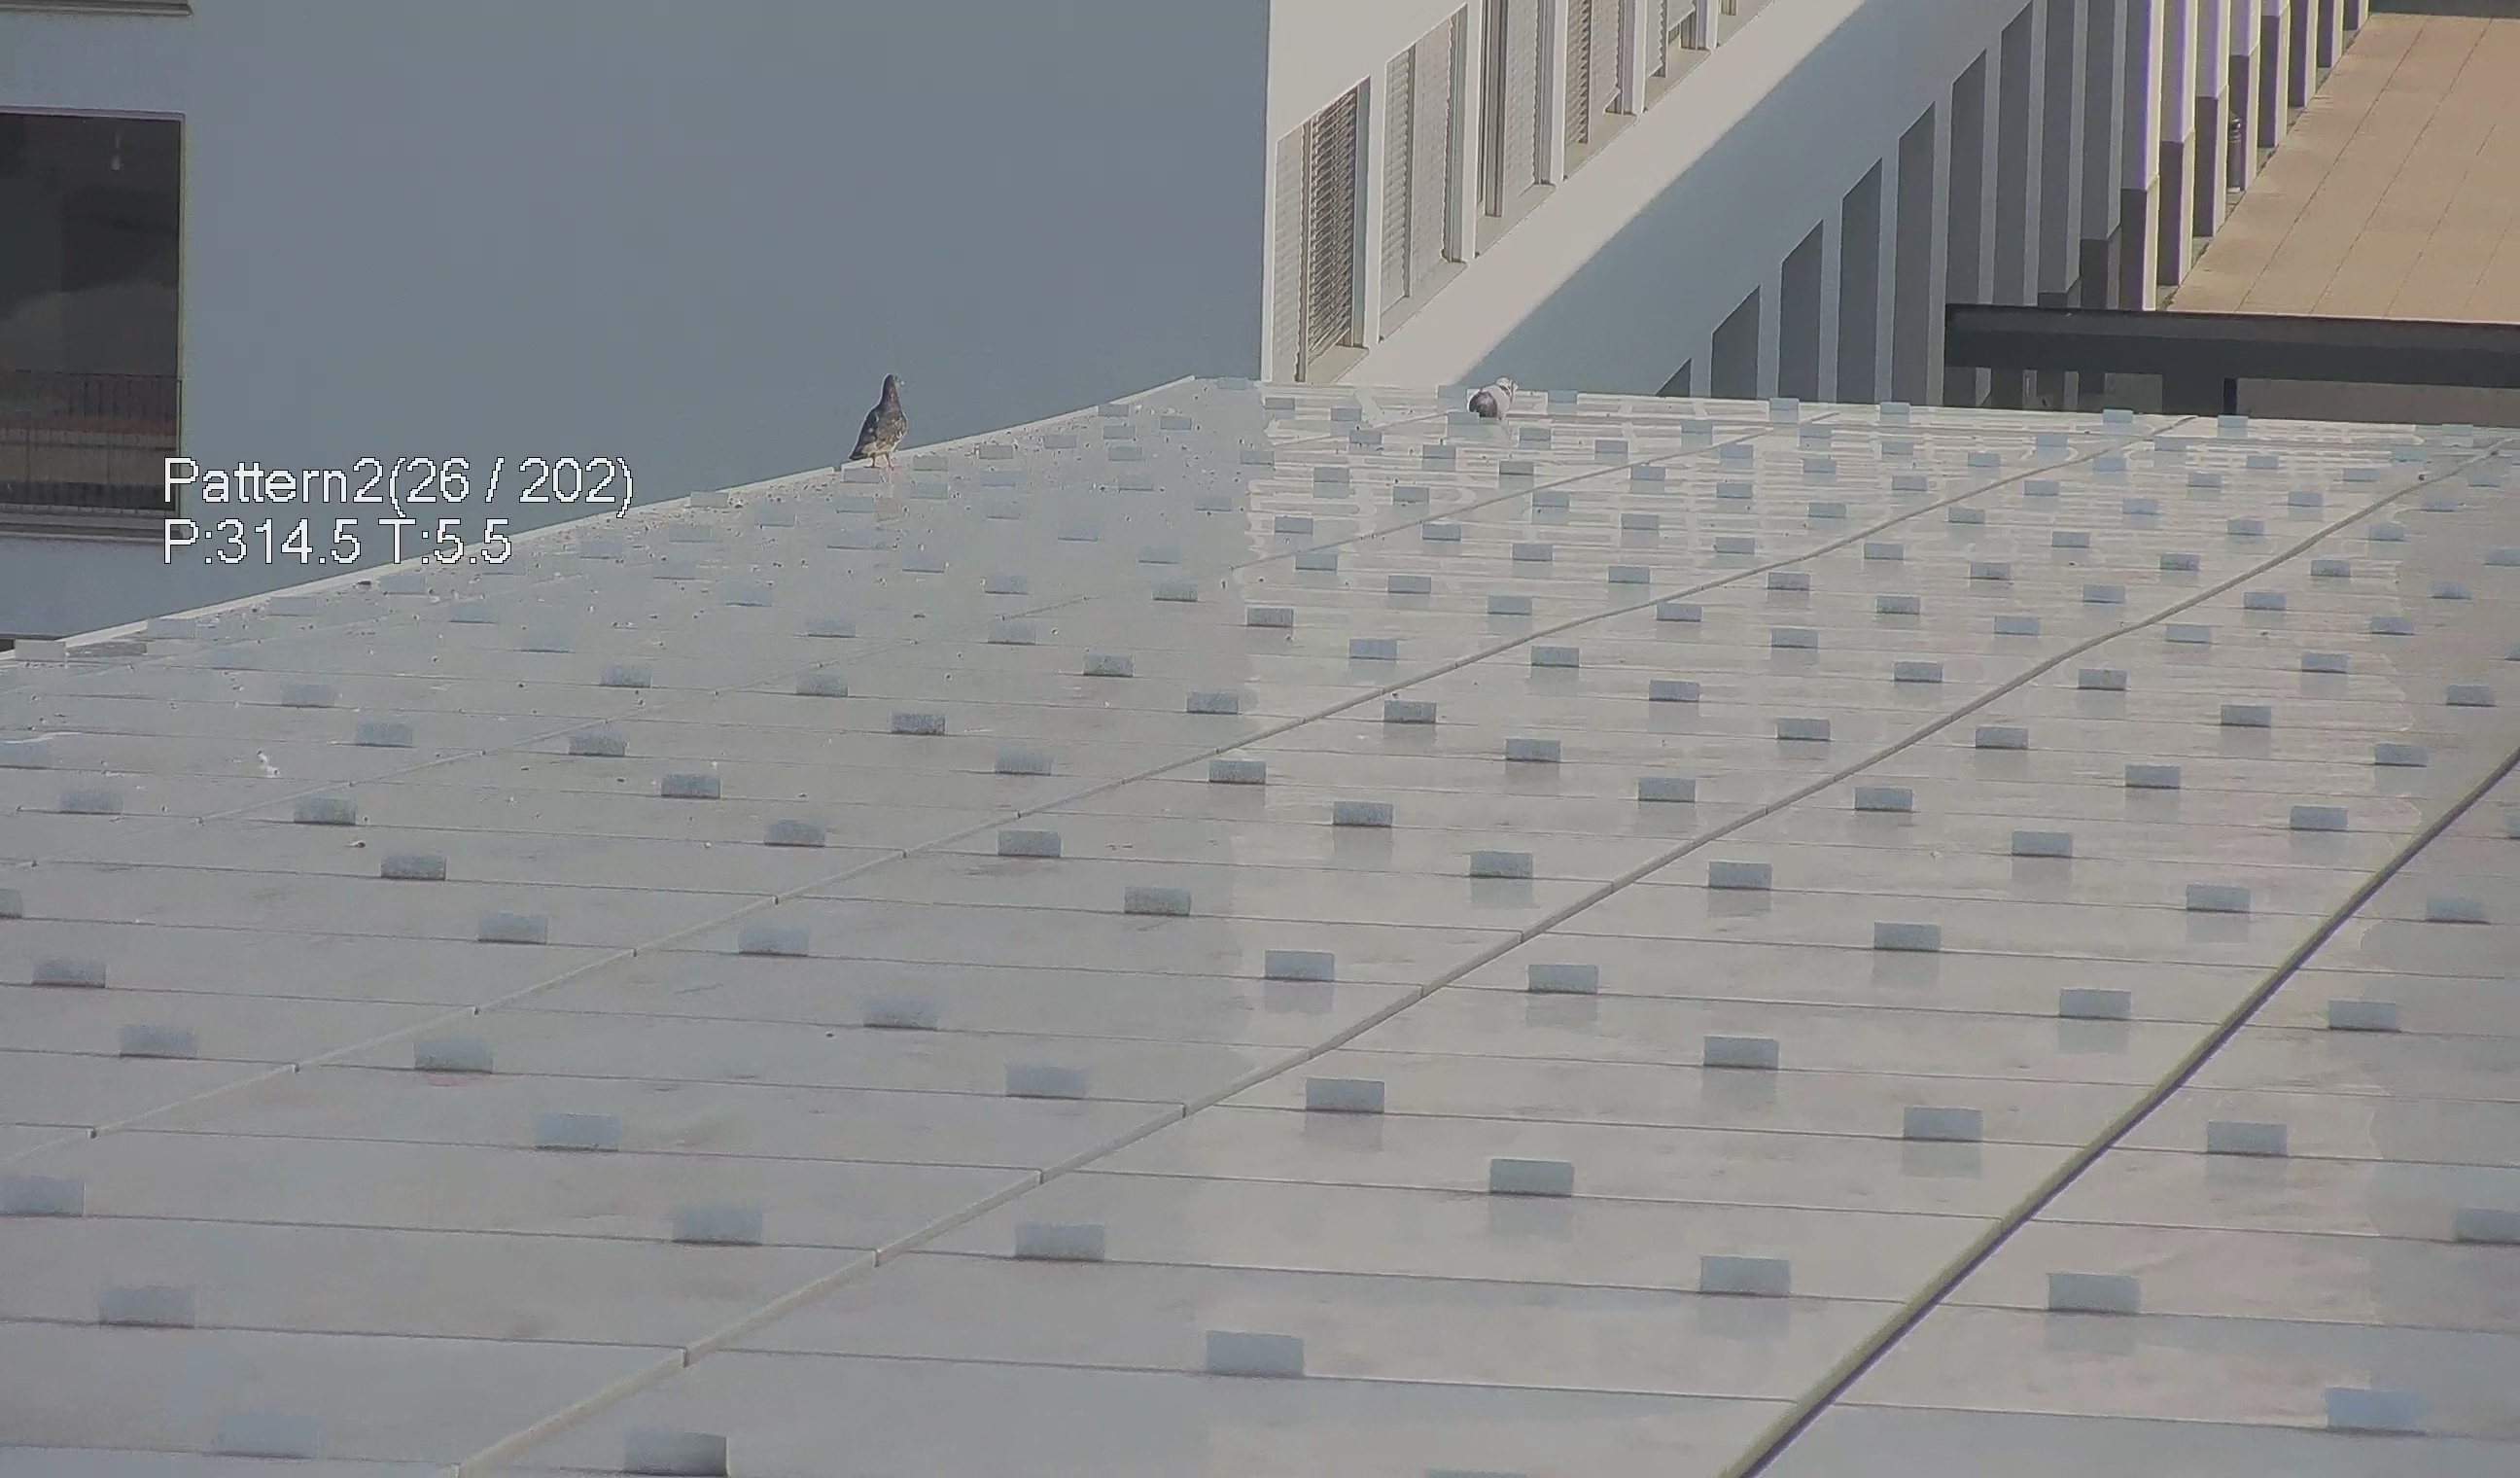Pigeon: (825, 361, 909, 480), (1456, 368, 1525, 436)
